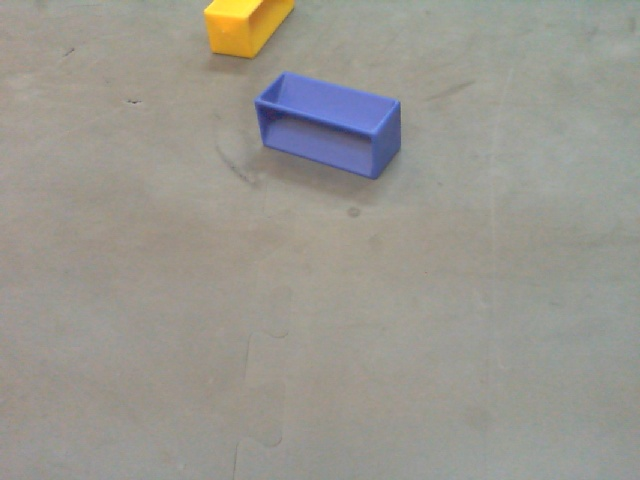BlueSample: (253, 69, 403, 184)
YellowSample: (202, 1, 307, 58)
